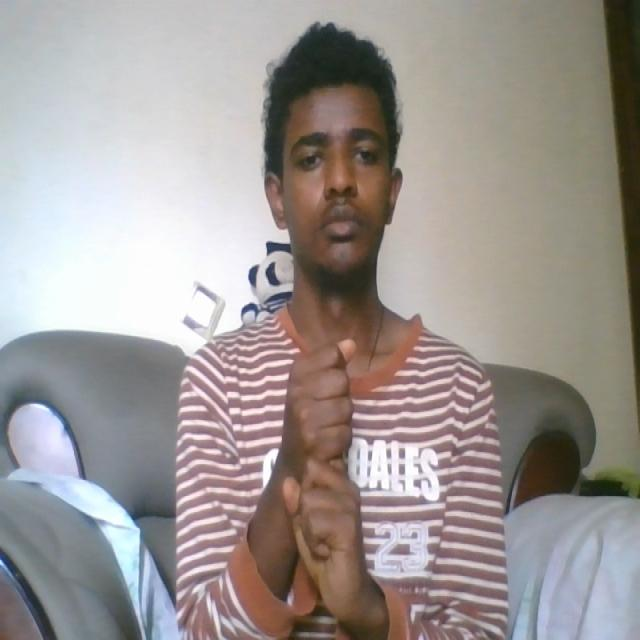meyaz: (280, 333, 370, 623)
